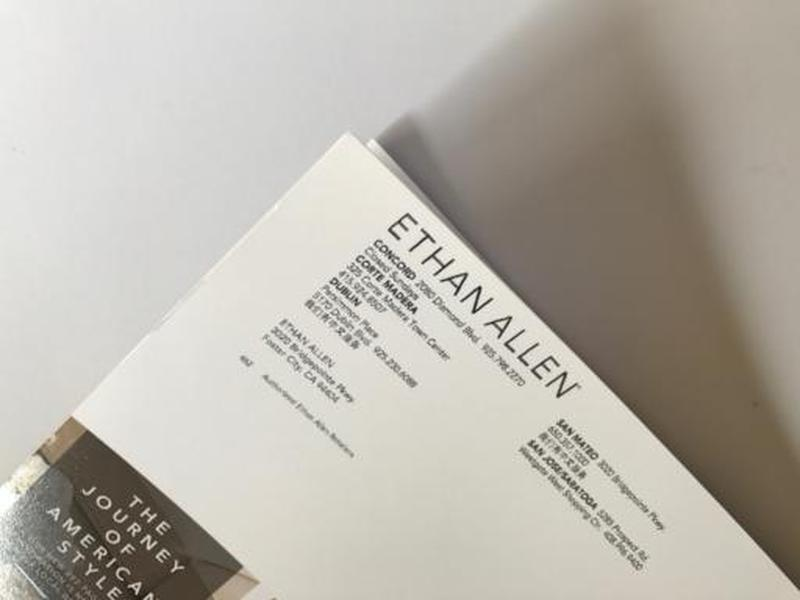paper: (1, 116, 800, 600)
